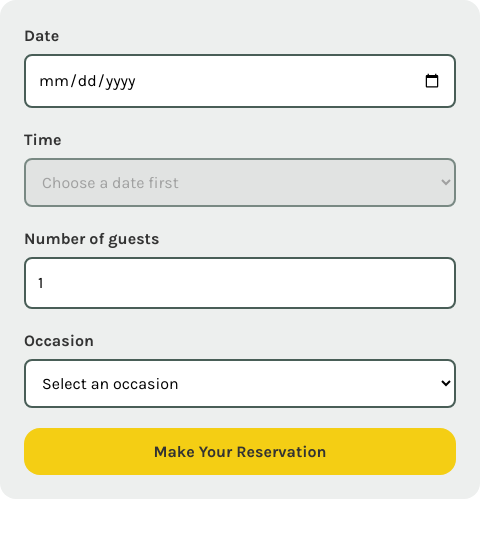
Scenario: BookingForm – validation & error messages › rejects 2.5 guests on blur
Replace the text in the number field labelled "Number of guests" with "2.5" at (240, 283), box [24,257,456,309]
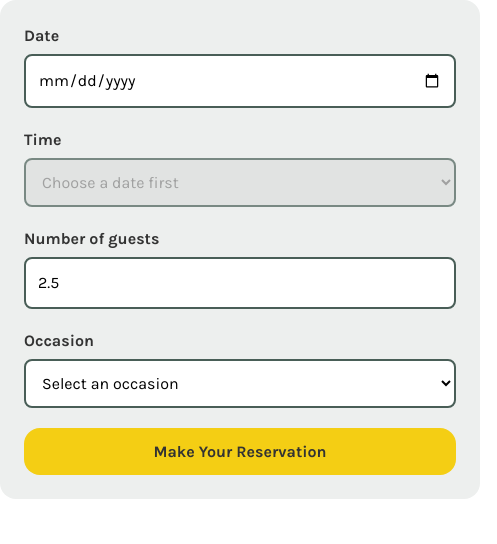
Leave the number field labelled "Number of guests", box [24,257,456,309]
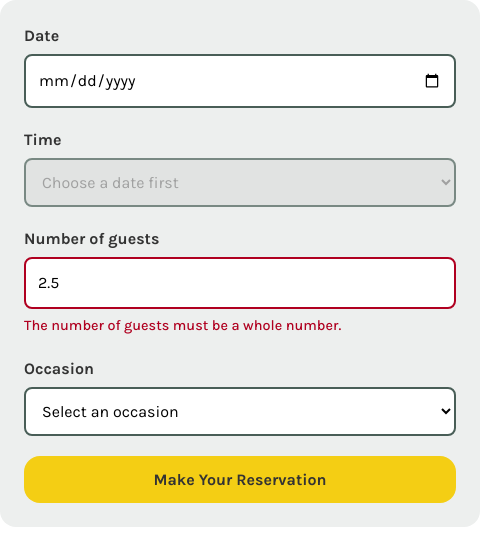
Expected: the message "The number of guests must be a whole number." is shown, [24,317,341,334]
